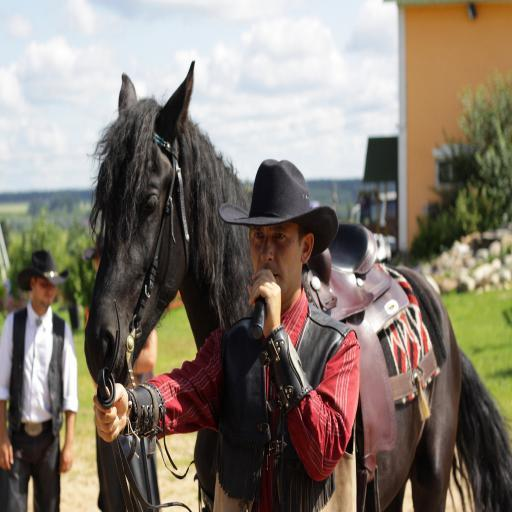horse: (83, 60, 512, 512)
